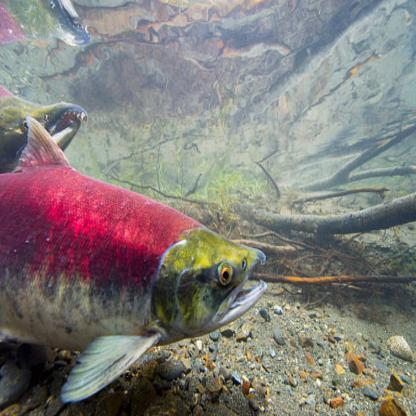sockeye: (0, 170, 264, 357)
